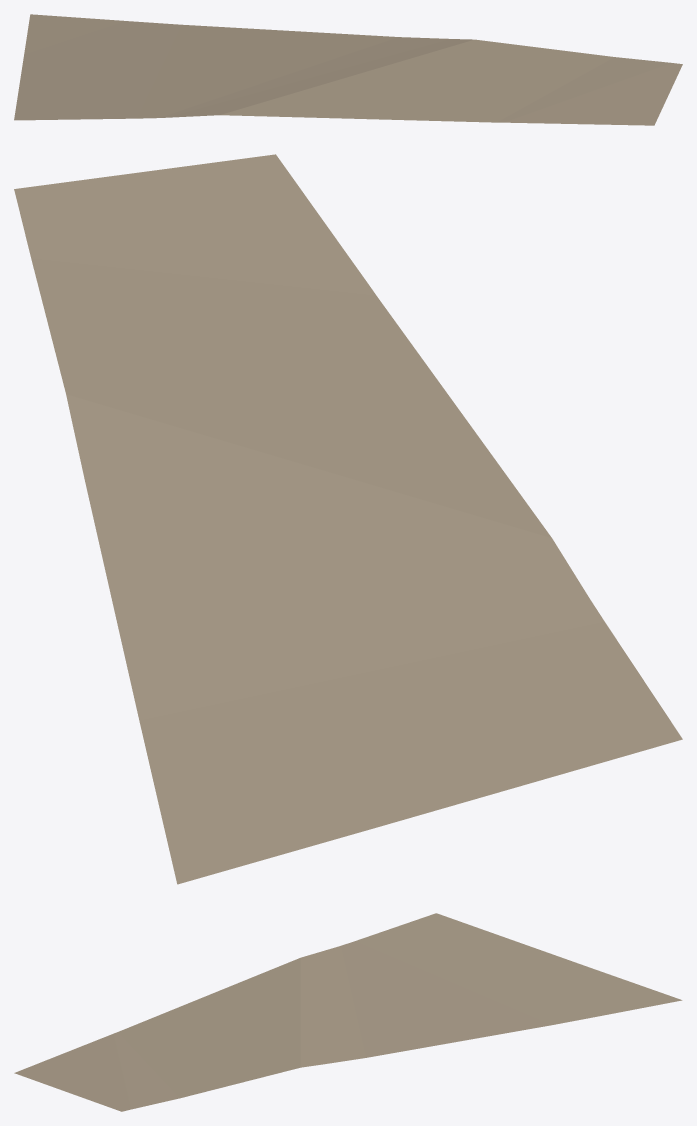
Rendered from farm_2_7_soil.glb.
3 views of the same model, one above another, from view 1: azimuth 30°, elevation 25°; view 2: azimuth 150°, elevation 25°; view 3: azimuth 270°, elevation 25° (orthographic). The views are drawn at different scales.
Parts seen in each view (by area): view 1: geometry_0; view 2: geometry_0; view 3: geometry_0.
Boxes of the visible parts, x1,y1,x2,y2 form: geometry_0: (14, 14, 682, 125); geometry_0: (14, 154, 682, 884); geometry_0: (14, 913, 682, 1111).
Bounding box in the file's own units: 39.68 × 5.02 × 45.53.
